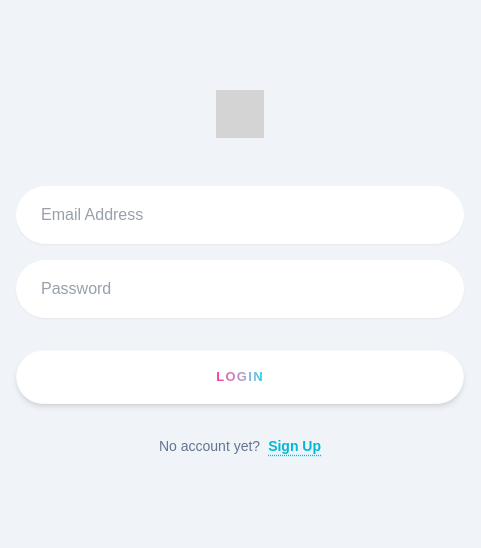
AuthPage › toggles back to login mode from signup mode
Step 1. Click the button "Sign Up" → (295, 446), box top-left (268, 436), bottom-right (321, 456)
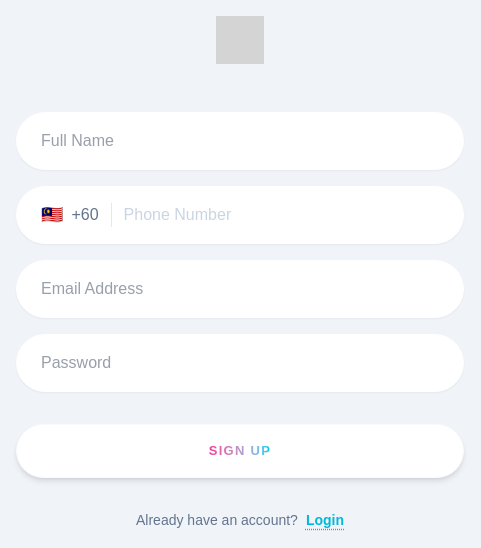
Step 2. Click the button "Login" → (325, 520), box top-left (306, 510), bottom-right (344, 530)
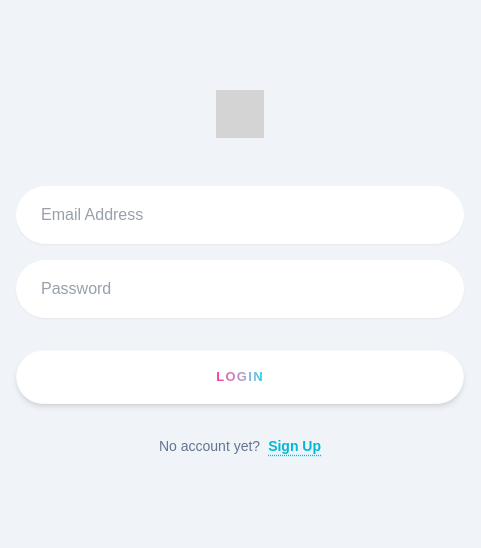
Now the field with placeholder "Full Name" is gone
